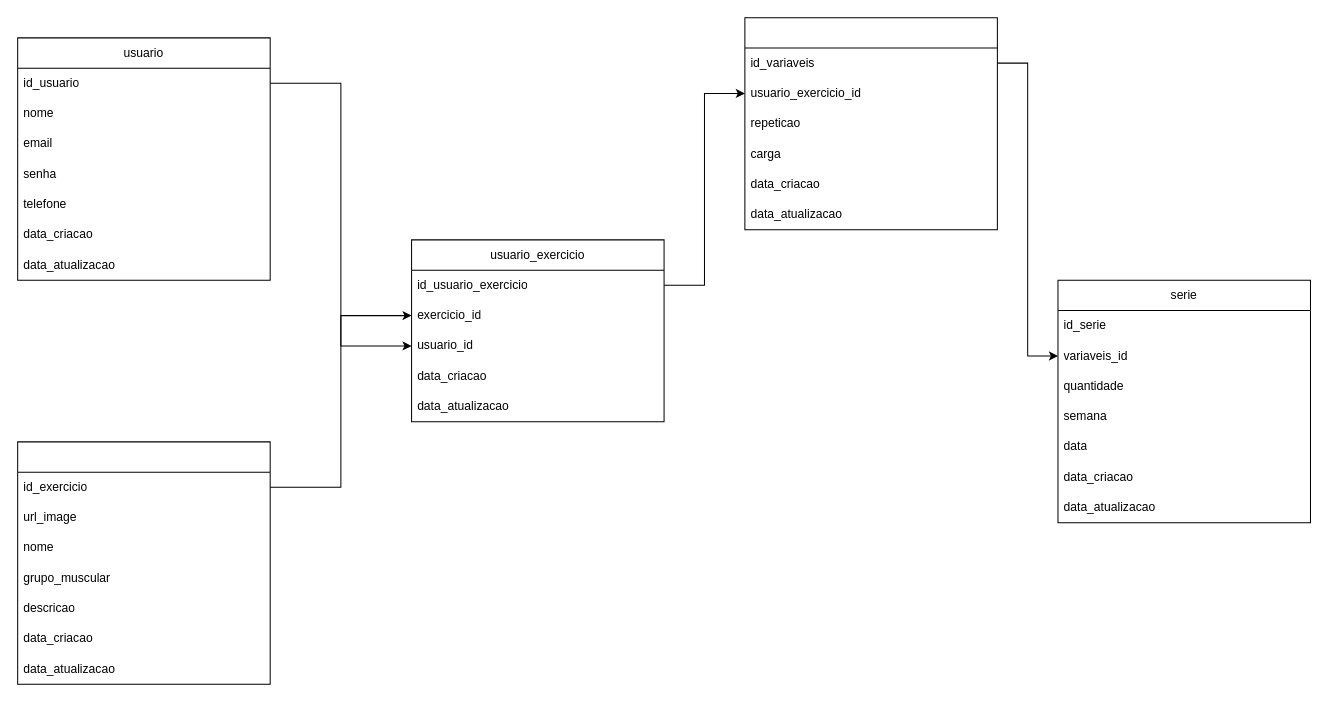
Image size: 1328x702. Some labels were removed from this diagram. The box of each missing label's shape, as (x1, y1, x2, y2) in pixels:
exercicios: (17, 441, 270, 684)
variaveis_treinamento: (744, 17, 997, 230)
